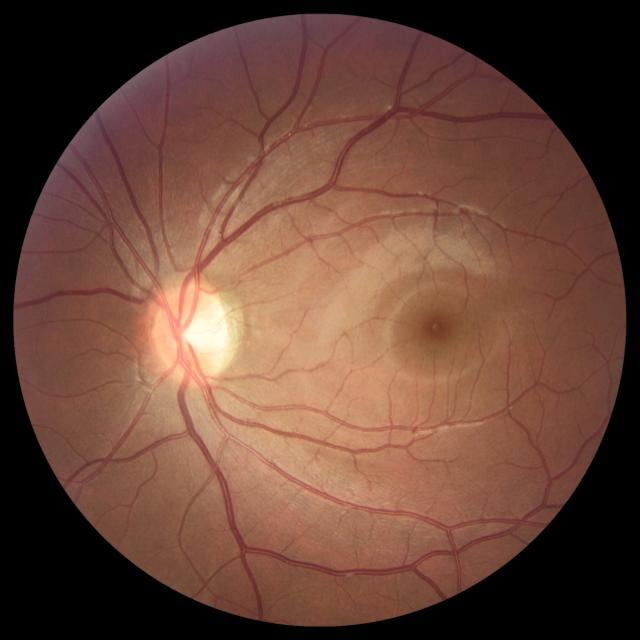OC: (182, 302, 228, 362)
OD: (148, 278, 230, 381)
